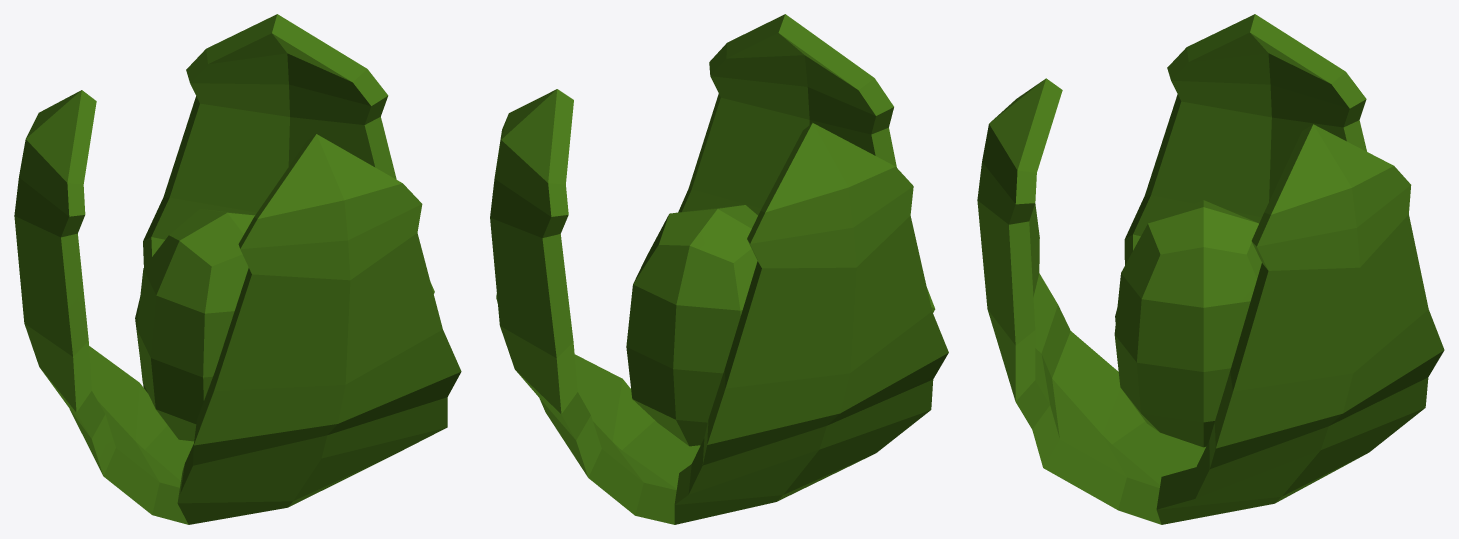
Rendered from crop-cell-lettuce-young.obj.
The picture shows the model from 3 angles, left to right: view 1: azimuth 30°, elevation 25°; view 2: azimuth 150°, elevation 25°; view 3: azimuth 270°, elevation 25°; orthographic projection.
Visible parts, largest first — view 1: crop-cell-lettuce-young; view 2: crop-cell-lettuce-young; view 3: crop-cell-lettuce-young.
Boxes of the visible parts, x1=… form: crop-cell-lettuce-young: x1=14, y1=14, x2=461, y2=524; crop-cell-lettuce-young: x1=490, y1=14, x2=948, y2=524; crop-cell-lettuce-young: x1=977, y1=14, x2=1444, y2=524.
Bounding box in the file's own units: 0.3333 × 0.3198 × 0.3318.
Materials: 1 (1 with a texture image).
